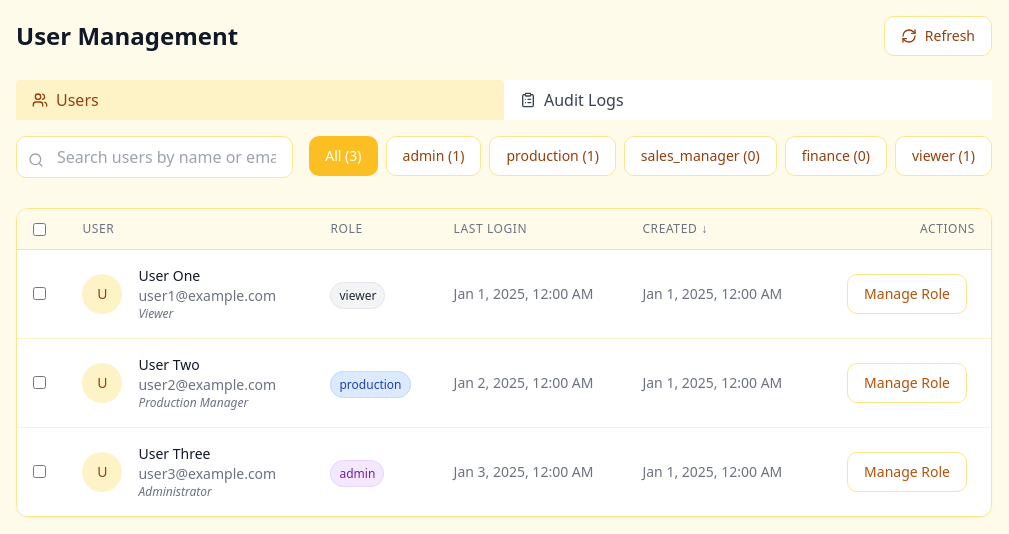
UserManagement › filters users by role
The width and height of the screenshot is (1009, 534).
Expected: the text "User One" is shown, [138,266,200,285]
Click role filter button
Click the button "admin (1)".
click(433, 156)  # box [386,136,481,176]
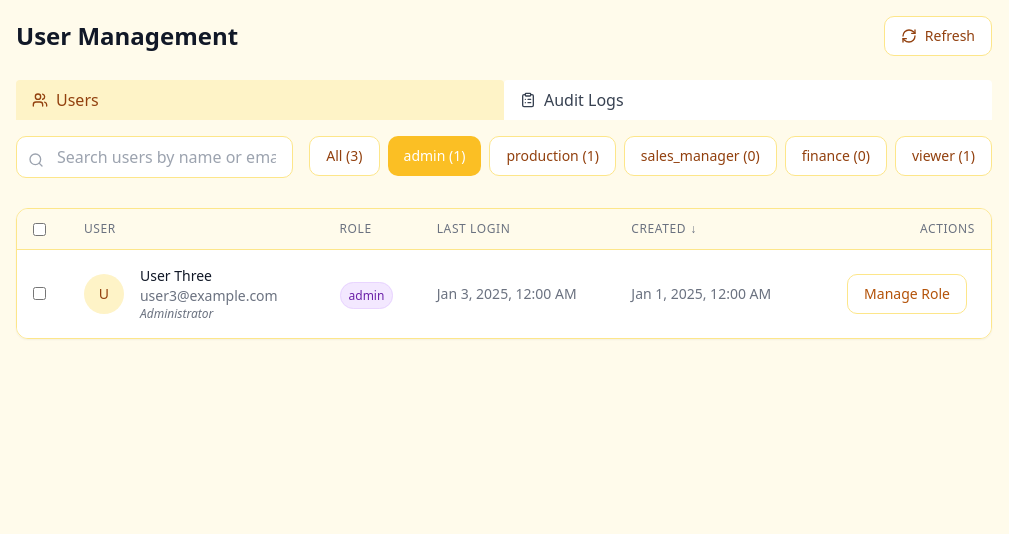
Expected: the text "User Three" is shown, [140,266,212,285]
Result: the text "User One" is gone
Result: the text "User Two" is gone
